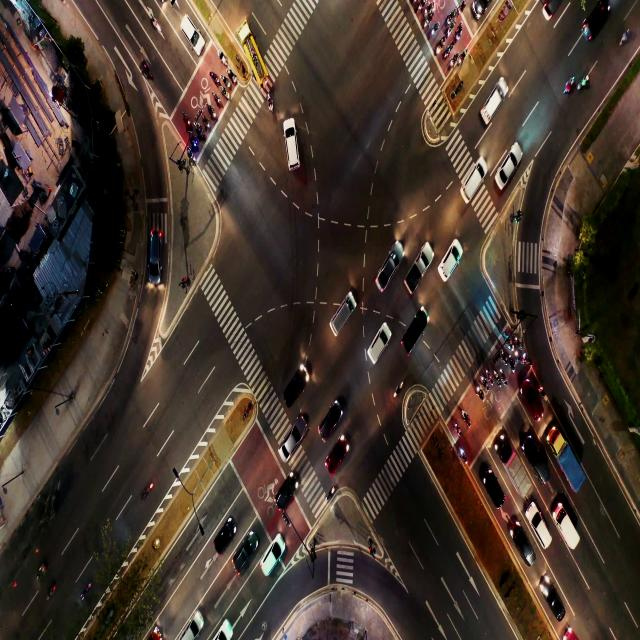bus: (253, 55, 259, 77)
car: (411, 321, 420, 344), (281, 484, 293, 501), (218, 528, 229, 546), (333, 449, 343, 465), (241, 548, 249, 568), (467, 177, 476, 194), (382, 268, 389, 288), (268, 550, 275, 570), (336, 312, 344, 329), (534, 456, 543, 470), (288, 436, 296, 450), (288, 140, 295, 155), (449, 253, 455, 270), (152, 242, 158, 258), (524, 545, 530, 561), (292, 385, 298, 400), (490, 98, 495, 115), (375, 342, 381, 356), (555, 600, 560, 616), (324, 422, 331, 433), (531, 397, 536, 412), (492, 484, 498, 496), (507, 160, 512, 173), (539, 524, 544, 536), (189, 28, 194, 38)
motorcycle: (393, 383, 400, 401), (267, 94, 275, 108), (456, 425, 462, 439), (460, 50, 466, 64), (461, 450, 467, 461), (425, 2, 431, 12), (188, 153, 195, 161), (462, 0, 466, 14), (328, 489, 334, 498), (503, 372, 507, 385), (456, 29, 461, 39), (522, 352, 526, 364), (439, 39, 443, 51), (185, 118, 189, 128), (198, 128, 202, 138), (451, 58, 456, 66), (448, 44, 452, 54), (432, 26, 437, 34), (417, 1, 421, 10), (478, 389, 482, 397), (450, 24, 454, 32), (451, 11, 455, 19), (191, 141, 196, 147), (211, 73, 214, 83), (426, 16, 431, 22), (210, 110, 214, 117), (216, 98, 220, 105), (222, 53, 226, 60), (484, 381, 488, 388), (204, 120, 208, 126), (222, 91, 228, 95), (488, 375, 491, 383), (496, 380, 499, 387), (510, 362, 513, 369), (466, 417, 468, 427), (224, 79, 227, 85), (517, 340, 520, 346), (502, 358, 504, 366), (509, 340, 511, 348), (231, 75, 233, 81)
truck: (415, 257, 425, 281), (565, 524, 574, 537), (566, 455, 572, 471), (518, 466, 522, 485)
